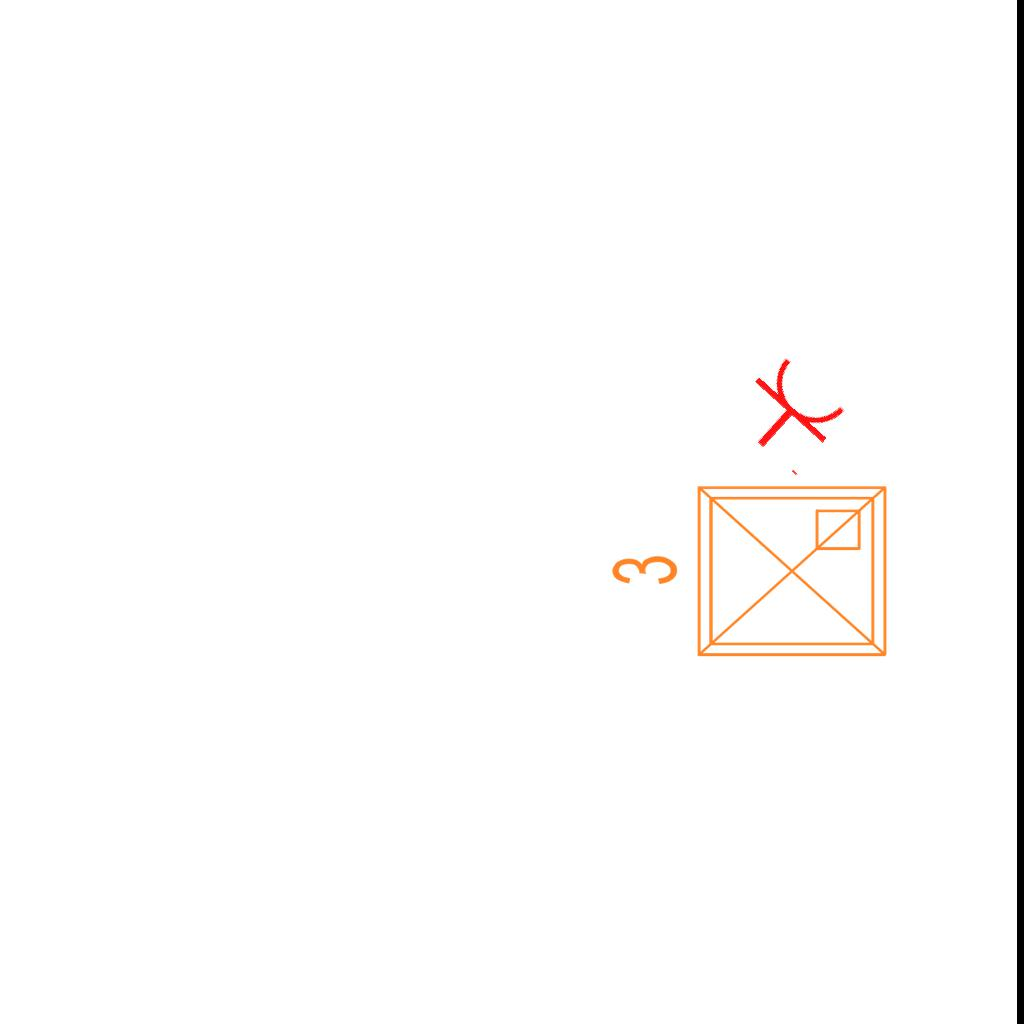Einbaudownlights_LED_Konferenzraeume: (601, 471, 901, 679)
Schukosteckdose_einfach: (723, 349, 856, 481)
